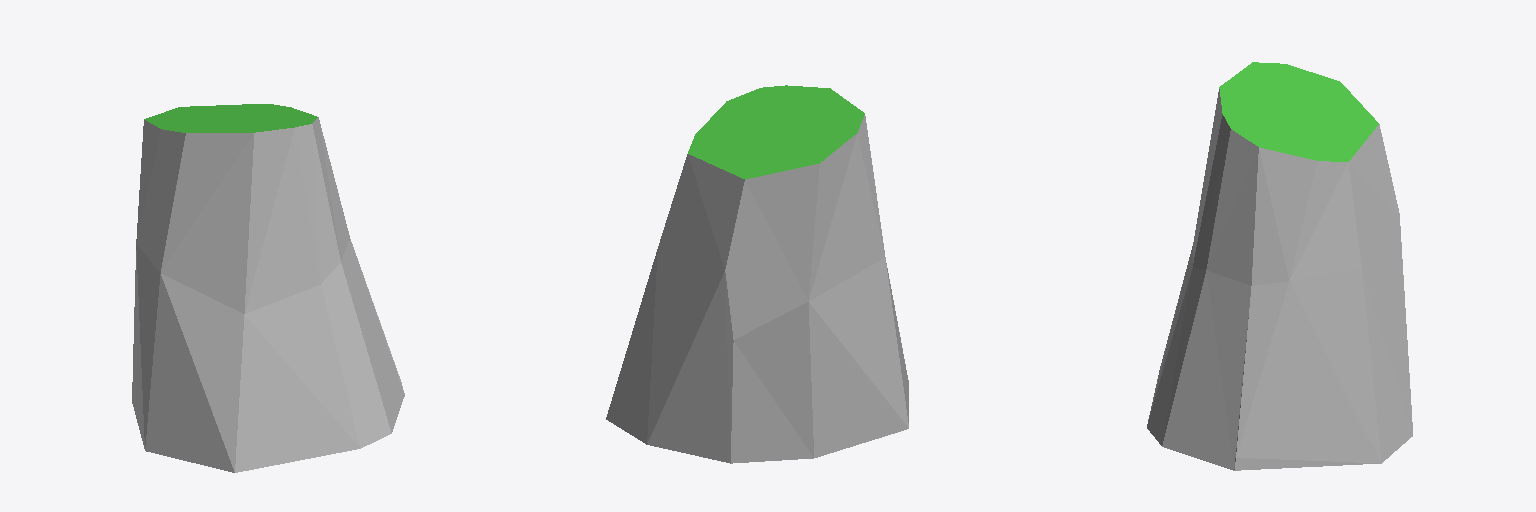
File: Mountain.obj
3 renders of one model, left to right at view 1: azimuth 30°, elevation 25°; view 2: azimuth 150°, elevation 25°; view 3: azimuth 270°, elevation 25°, orthographic.
Visible parts, largest first — view 1: Cylinder; view 2: Cylinder; view 3: Cylinder.
Part boxes in pixels (left/top/right/bottom): Cylinder: left=132, top=104, right=404, bottom=472; Cylinder: left=606, top=85, right=908, bottom=463; Cylinder: left=1147, top=62, right=1412, bottom=470.
Bounding box in the file's own units: 2.09 × 2.43 × 1.92.